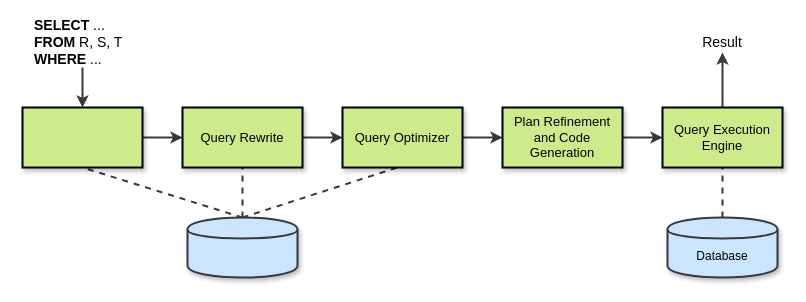
The diagram is 806 pixels wide and 302 high, and some of its shapes have lost their labels. Each missing label, with the centre of its shape:
"Catalog" belongs at (243,248).
"Parser" belongs at (83,138).
